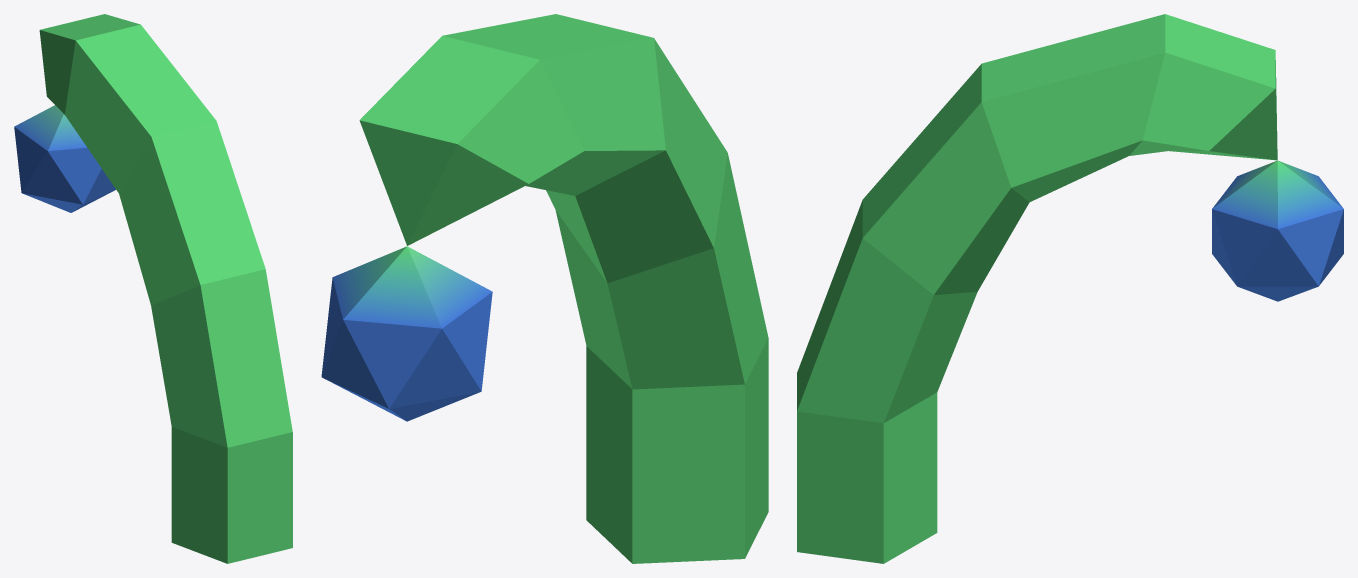
The model's file is SlimeBulbHarvest.fbx.
The picture shows the model from 3 angles, left to right: view 1: azimuth 30°, elevation 25°; view 2: azimuth 150°, elevation 25°; view 3: azimuth 270°, elevation 25°; orthographic projection. The views are drawn at different scales.
Visible parts, largest first — view 1: SlimeBulbHarvest; view 2: SlimeBulbHarvest; view 3: SlimeBulbHarvest.
Part boxes in pixels (<box>): SlimeBulbHarvest: <box>14,14,292,563</box>; SlimeBulbHarvest: <box>321,14,768,563</box>; SlimeBulbHarvest: <box>797,14,1343,563</box>.
Bounding box in the file's own units: 207 × 710 × 705.
